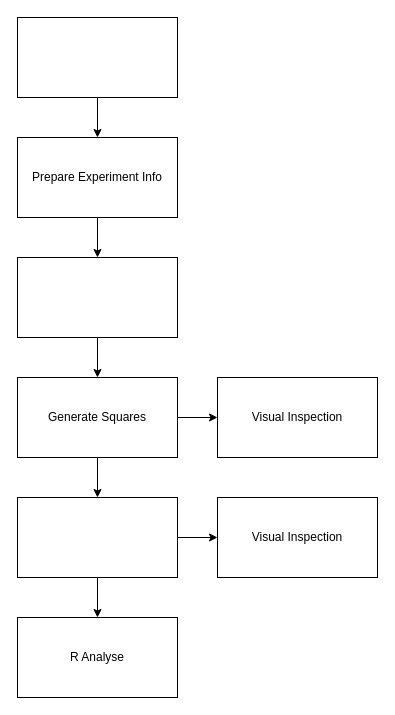
Some shapes in this 395 by 715 pixel diagram are drawn without their labels. The shapes that lost their labels are listed below. From the top down, each one's box as (x1, y1, x2, y2) in pixels, then its label:
(16, 16, 178, 98): Microscopy Experiment
(16, 256, 178, 338): Run TrackMate
(16, 496, 178, 578): Compile Project
